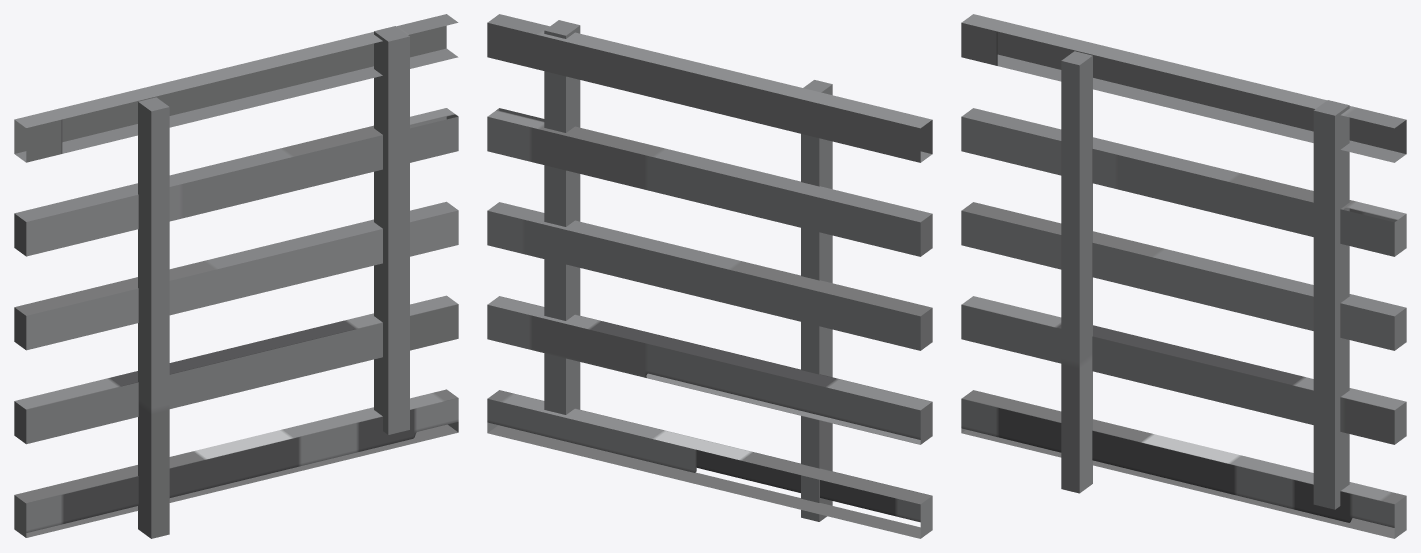
3 views of the same model, side by side, from view 1: azimuth 30°, elevation 25°; view 2: azimuth 150°, elevation 25°; view 3: azimuth 330°, elevation 25° (orthographic).
Bounding box in the file's own units: 0.9373 × 0.8952 × 0.0925.
